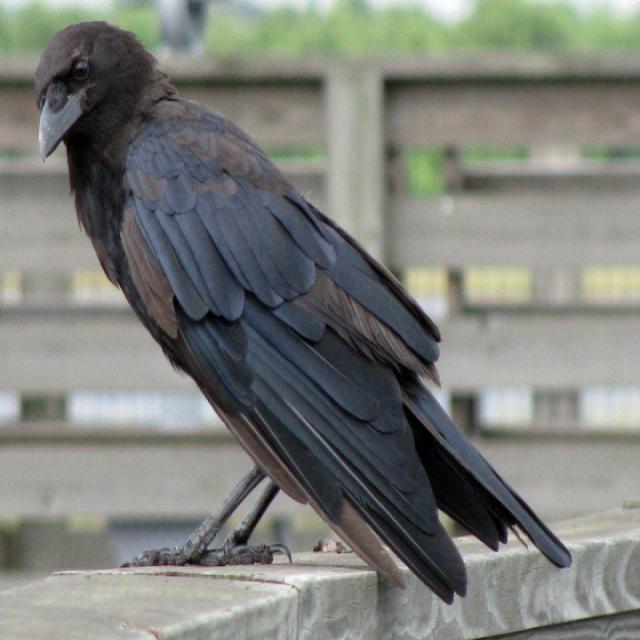crow: (35, 22, 571, 604)
